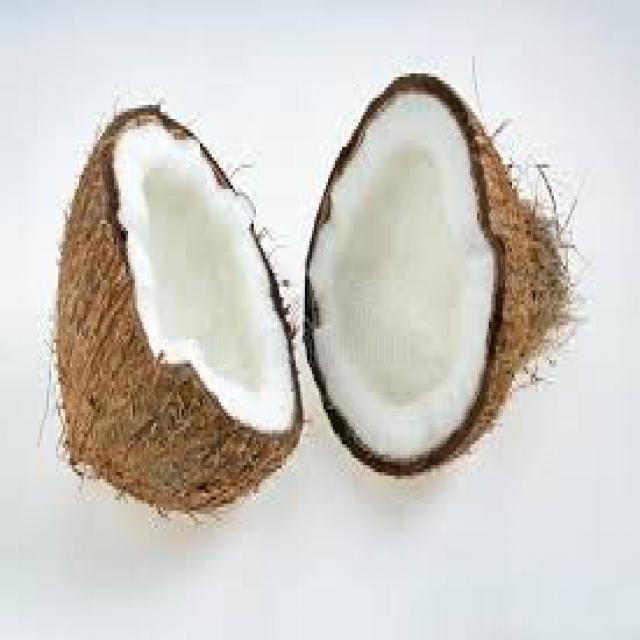coconut: (310, 66, 577, 482), (51, 98, 307, 518)
